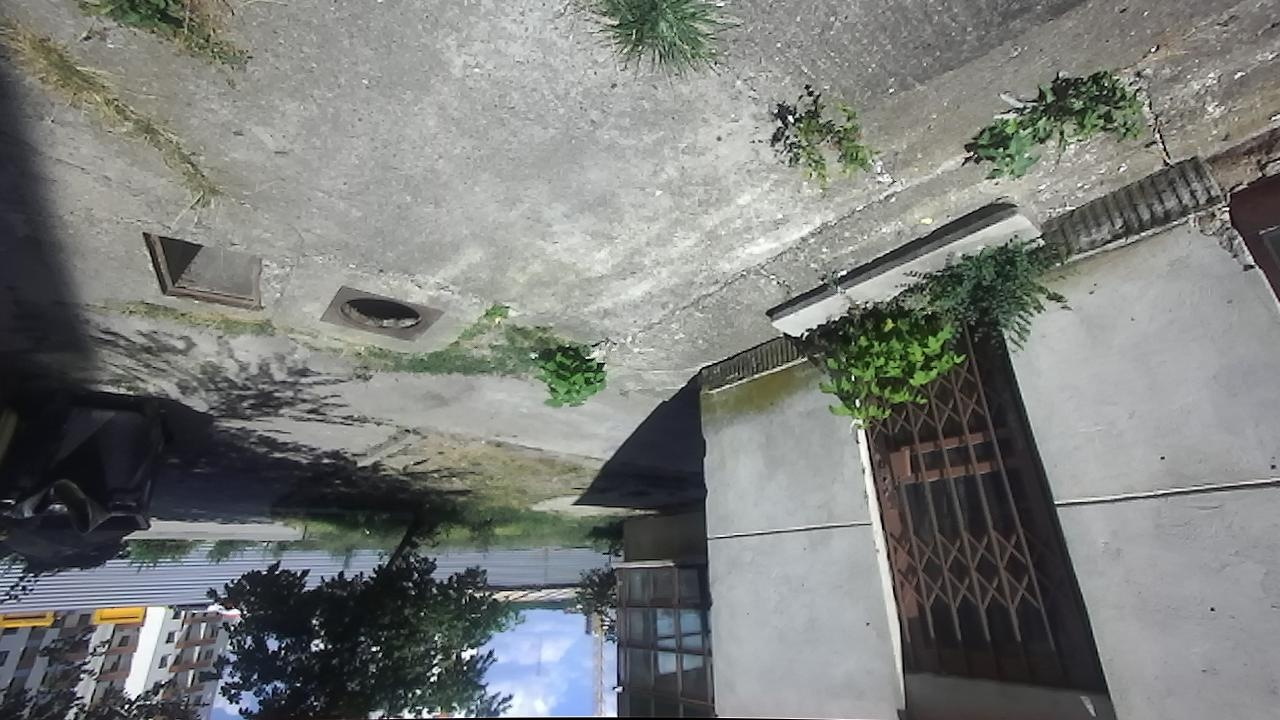drain: (138, 227, 266, 313), (333, 295, 426, 335)
